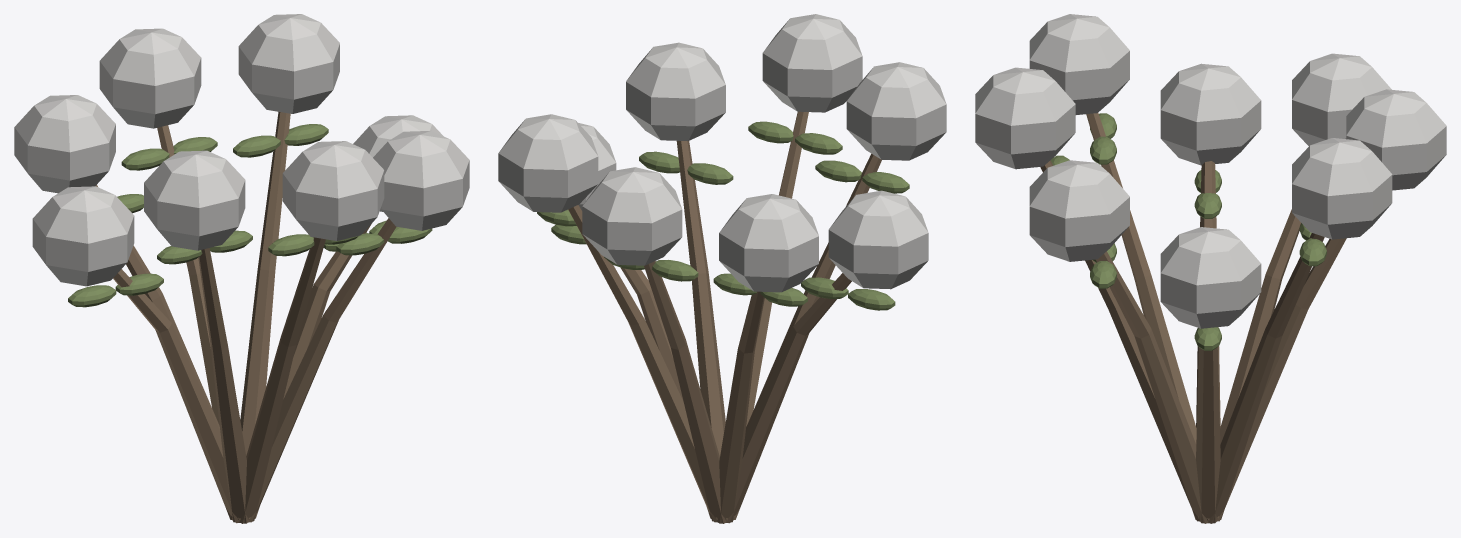
The model's file is Thread_CottonBush.fbx.
The picture shows the model from 3 angles, left to right: view 1: azimuth 30°, elevation 25°; view 2: azimuth 150°, elevation 25°; view 3: azimuth 270°, elevation 25°; orthographic projection. The views are drawn at different scales.
Parts seen in each view (by area): view 1: Res_Thread_CottonBush; view 2: Res_Thread_CottonBush; view 3: Res_Thread_CottonBush.
Boxes of the visible parts, left/top/right/bottom form: Res_Thread_CottonBush: left=14, top=14, right=469, bottom=523; Res_Thread_CottonBush: left=498, top=14, right=946, bottom=523; Res_Thread_CottonBush: left=975, top=14, right=1446, bottom=523.
Size of the model in its own units: 1.02 by 1.06 by 1.02.
